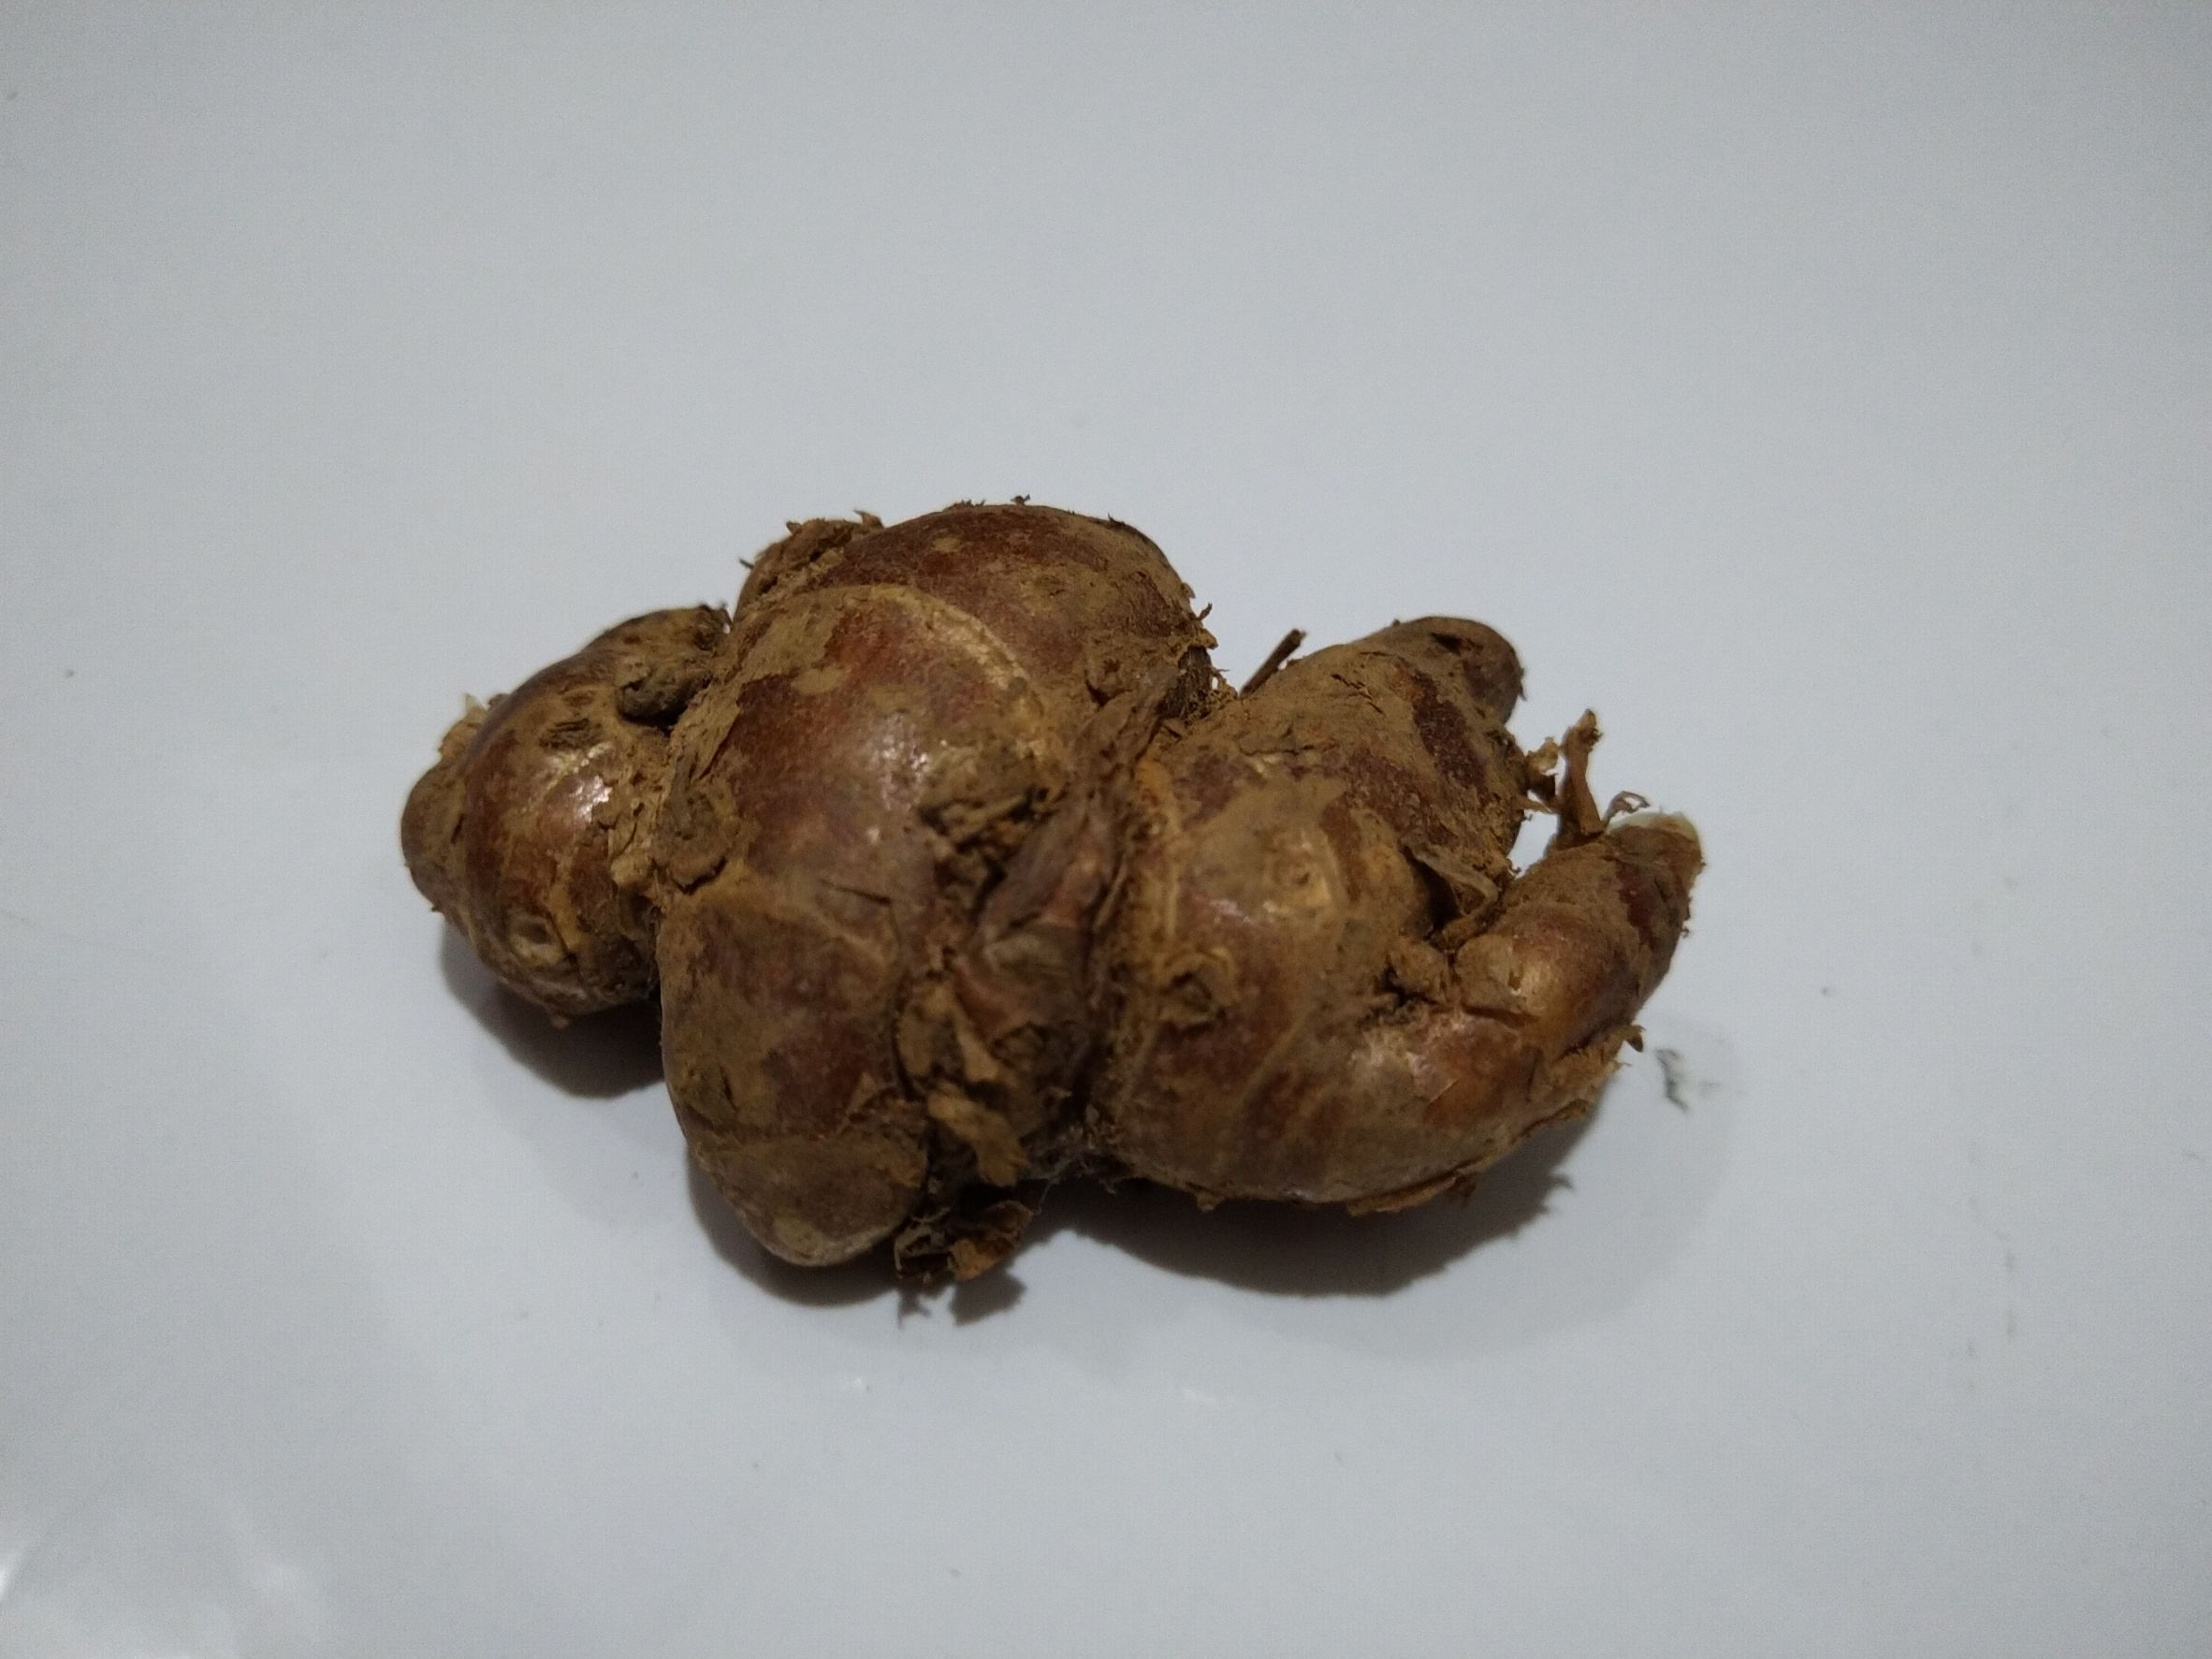Kencur: (397, 488, 1707, 1316)
